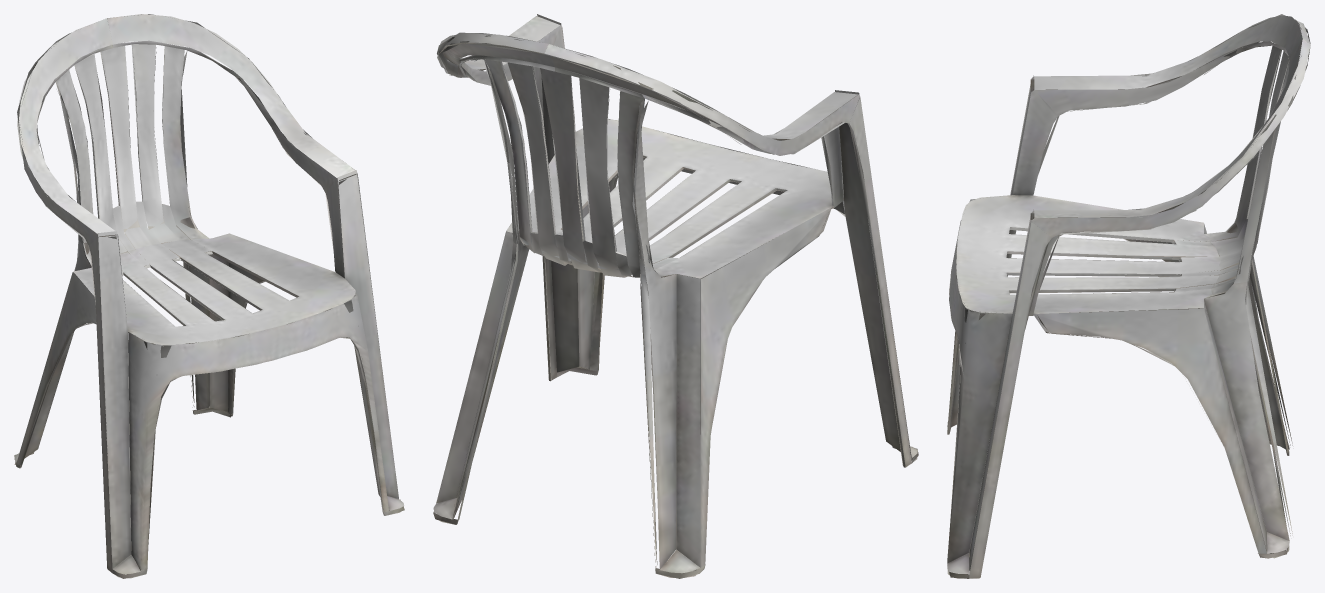
The model's file is plastic_chair.glb.
3 renders of one model, left to right at view 1: azimuth 30°, elevation 25°; view 2: azimuth 150°, elevation 25°; view 3: azimuth 270°, elevation 25°, orthographic. The views are drawn at different scales.
Parts seen in each view (by area): view 1: plastic_monobloc_chair_01; view 2: plastic_monobloc_chair_01; view 3: plastic_monobloc_chair_01.
Boxes of the visible parts, x1=… form: plastic_monobloc_chair_01: x1=14, y1=14, x2=404, y2=578; plastic_monobloc_chair_01: x1=433, y1=14, x2=918, y2=578; plastic_monobloc_chair_01: x1=947, y1=14, x2=1310, y2=578.
Size of the model in its own units: 0.6455 by 0.8811 by 0.6284.
Materials: 1 (1 with a texture image).
